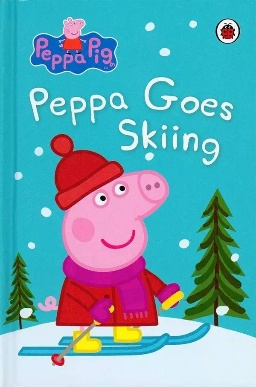Peppa: (36, 134, 184, 354)
